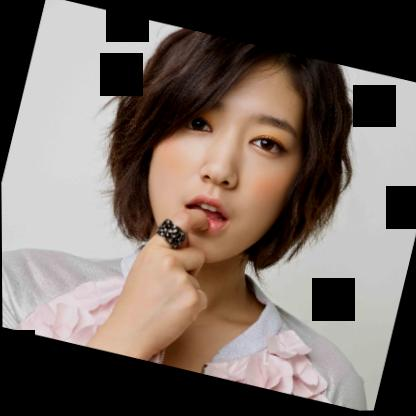Female: (127, 37, 326, 282)
